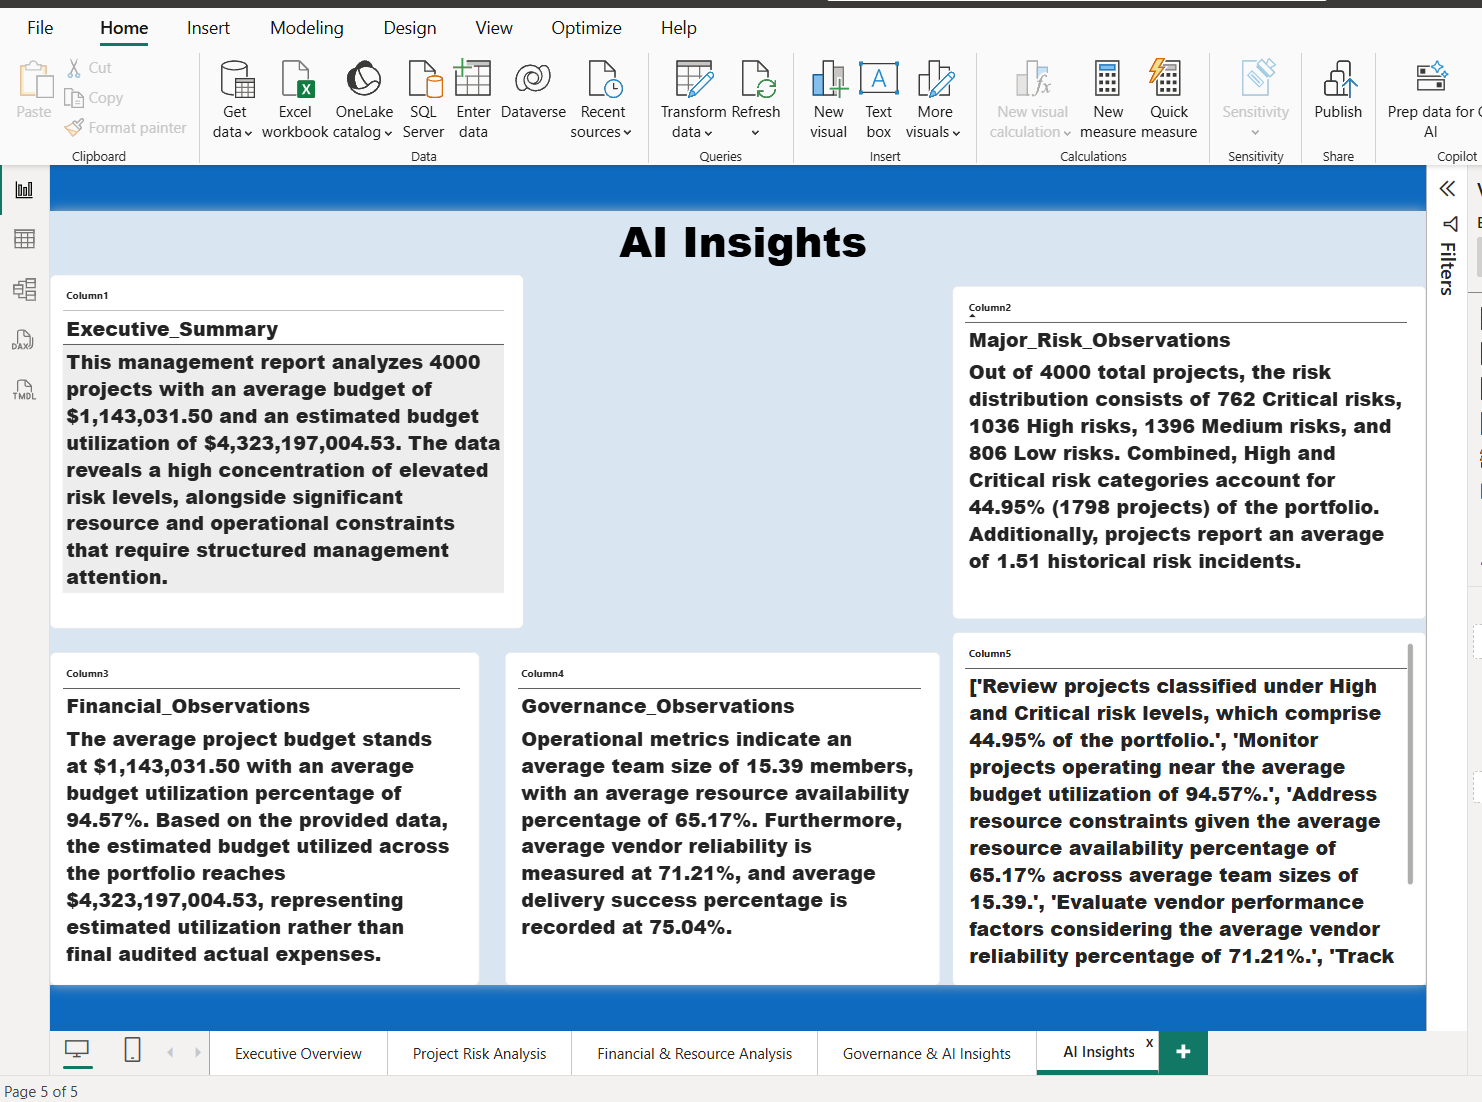

What the dashboard file says about the page in this screenshot:
{"tool":"powerbi","page":{"name":"AI Insights","canvas":[1920,1080],"ordinal":4},"visuals":[{"type":"tableEx","fields":{"Values":["AI_Project_Risk_Insights.Column1"]},"box":[0,89.7,660.5,493.4],"z":4},{"type":"tableEx","fields":{"Values":["AI_Project_Risk_Insights.Column2"]},"box":[1259.9,104,660.5,464.8],"z":5},{"type":"tableEx","fields":{"Values":["AI_Project_Risk_Insights.Column3"]},"box":[0,615.7,599.4,464.8],"z":6},{"type":"tableEx","fields":{"Values":["AI_Project_Risk_Insights.Column4"]},"box":[634,615.7,607.5,464.8],"z":7},{"type":"tableEx","fields":{"Values":["AI_Project_Risk_Insights.Column5"]},"box":[1259.9,587.1,660.5,493.4],"z":8},{"type":"textbox","box":[14.3,0,1906.1,89.7],"z":9},{"type":"textbox","box":[100,100,300,300],"z":10},{"type":"textbox","box":[762.5,267.1,189.6,132.5],"z":11}]}

Visuals, with their boxes on the page's 1920x1080 design canvas (x1, y1, x2, y2). These are canvas units, not pixel positions in the 1482x1102 screenshot, which may show the page scaled, cropped or inside an application window:
tableEx - AI_Project_Risk_Insights.Column1: 0:90:660:583
tableEx - AI_Project_Risk_Insights.Column2: 1260:104:1920:569
tableEx - AI_Project_Risk_Insights.Column3: 0:616:599:1080
tableEx - AI_Project_Risk_Insights.Column4: 634:616:1242:1080
tableEx - AI_Project_Risk_Insights.Column5: 1260:587:1920:1080
textbox: 14:0:1920:90
textbox: 100:100:400:400
textbox: 762:267:952:400
